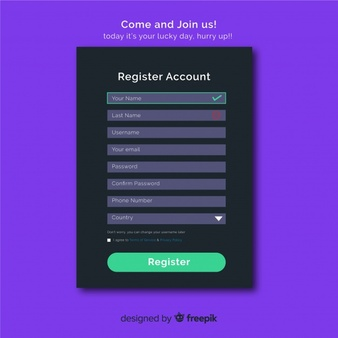_form_: (1, 1, 338, 338)
button: (106, 250, 226, 273)
field: (105, 90, 227, 106), (106, 177, 227, 191), (106, 108, 226, 122), (106, 125, 226, 139), (107, 160, 227, 174), (106, 143, 227, 156), (106, 194, 227, 207), (106, 212, 227, 225)
